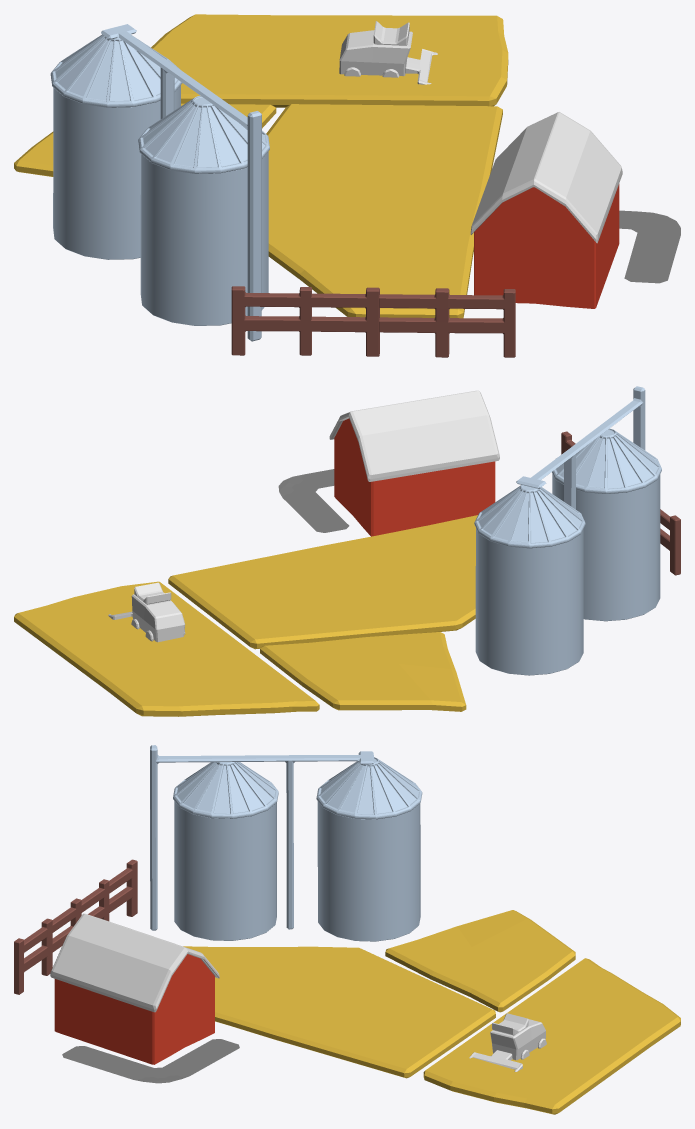
Rendered from grainFarm.fbx.
3 renders of one model, top to bottom at view 1: azimuth 30°, elevation 25°; view 2: azimuth 150°, elevation 25°; view 3: azimuth 270°, elevation 25°, orthographic. The views are drawn at different scales.
Visible parts, largest first — view 1: Cube.086, Cube.087, Cylinder.152, Cube.089, Cylinder.141, Cube.113, Cube.090, Cube.095, Plane.007, Cube.088; view 2: Cube.086, Cube.087, Cube.089, Cylinder.141, Cylinder.152, Cube.088, Cube.090, Cube.095, Plane.007, Cube.113; view 3: Cube.086, Cube.087, Cube.089, Cylinder.141, Cylinder.152, Cube.088, Cube.090, Cube.113, Plane.007, Cube.095.
Part boxes in pixels (box(x1,y1,x2,y2)): Cube.086: box(266, 104, 502, 318); Cube.087: box(151, 14, 508, 107); Cylinder.152: box(138, 95, 269, 325); Cube.089: box(470, 112, 622, 308); Cylinder.141: box(50, 34, 182, 259); Cube.113: box(231, 286, 515, 357); Cube.090: box(101, 24, 261, 341); Cube.095: box(339, 21, 437, 84); Plane.007: box(619, 210, 680, 283); Cube.088: box(14, 103, 276, 176); Cube.086: box(168, 515, 477, 649); Cube.087: box(14, 581, 319, 716); Cube.089: box(329, 390, 499, 536); Cylinder.141: box(474, 485, 585, 675); Cylinder.152: box(552, 428, 661, 621); Cube.088: box(260, 632, 466, 711); Cube.090: box(516, 386, 645, 509); Cube.095: box(108, 582, 185, 642); Plane.007: box(278, 469, 349, 532); Cube.113: box(561, 431, 680, 575); Cube.086: box(183, 946, 495, 1078); Cube.087: box(423, 958, 680, 1114); Cube.089: box(50, 913, 219, 1064); Cylinder.141: box(316, 757, 422, 941); Cylinder.152: box(173, 762, 278, 940); Cube.088: box(385, 910, 575, 1012); Cube.090: box(150, 745, 373, 930); Cube.113: box(14, 859, 137, 994); Plane.007: box(62, 1039, 239, 1083); Cube.095: box(469, 1013, 546, 1071).
Size of the model in its own units: 0.7623 by 0.2958 by 0.9811.
